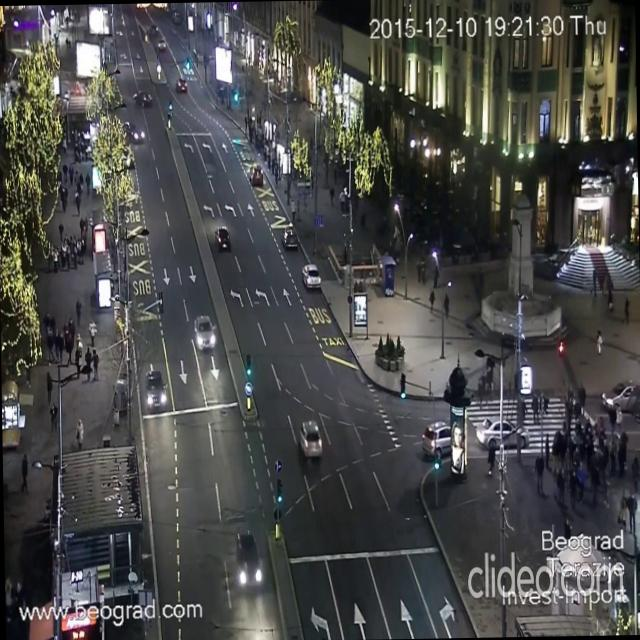car: (475, 416, 533, 454), (234, 528, 262, 586), (599, 378, 640, 412), (421, 420, 452, 458), (298, 418, 322, 458), (144, 368, 166, 406), (193, 314, 215, 351), (119, 120, 146, 146), (301, 262, 320, 288), (213, 224, 230, 252), (129, 88, 155, 106), (281, 226, 297, 250), (175, 74, 188, 96), (157, 40, 167, 54)
